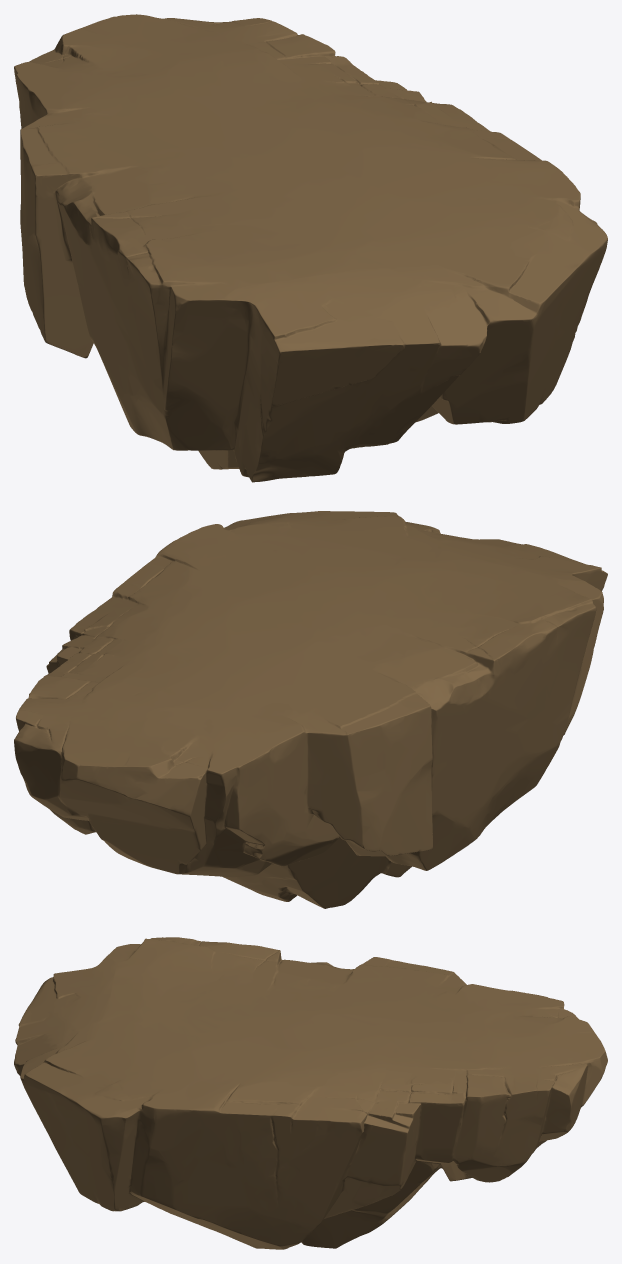
The picture shows the model from 3 angles, top to bottom: view 1: azimuth 30°, elevation 25°; view 2: azimuth 150°, elevation 25°; view 3: azimuth 270°, elevation 25°; orthographic projection. The views are drawn at different scales.
Visible parts, largest first — view 1: SM_BM_Cliff_Overhang_01_LOD0; view 2: SM_BM_Cliff_Overhang_01_LOD0; view 3: SM_BM_Cliff_Overhang_01_LOD0.
Boxes of the visible parts, bbox=[...] form: SM_BM_Cliff_Overhang_01_LOD0: bbox=[14, 14, 607, 482]; SM_BM_Cliff_Overhang_01_LOD0: bbox=[14, 511, 607, 908]; SM_BM_Cliff_Overhang_01_LOD0: bbox=[14, 937, 607, 1249].
Bounding box in the file's own units: 35.51 × 22.27 × 55.05.
